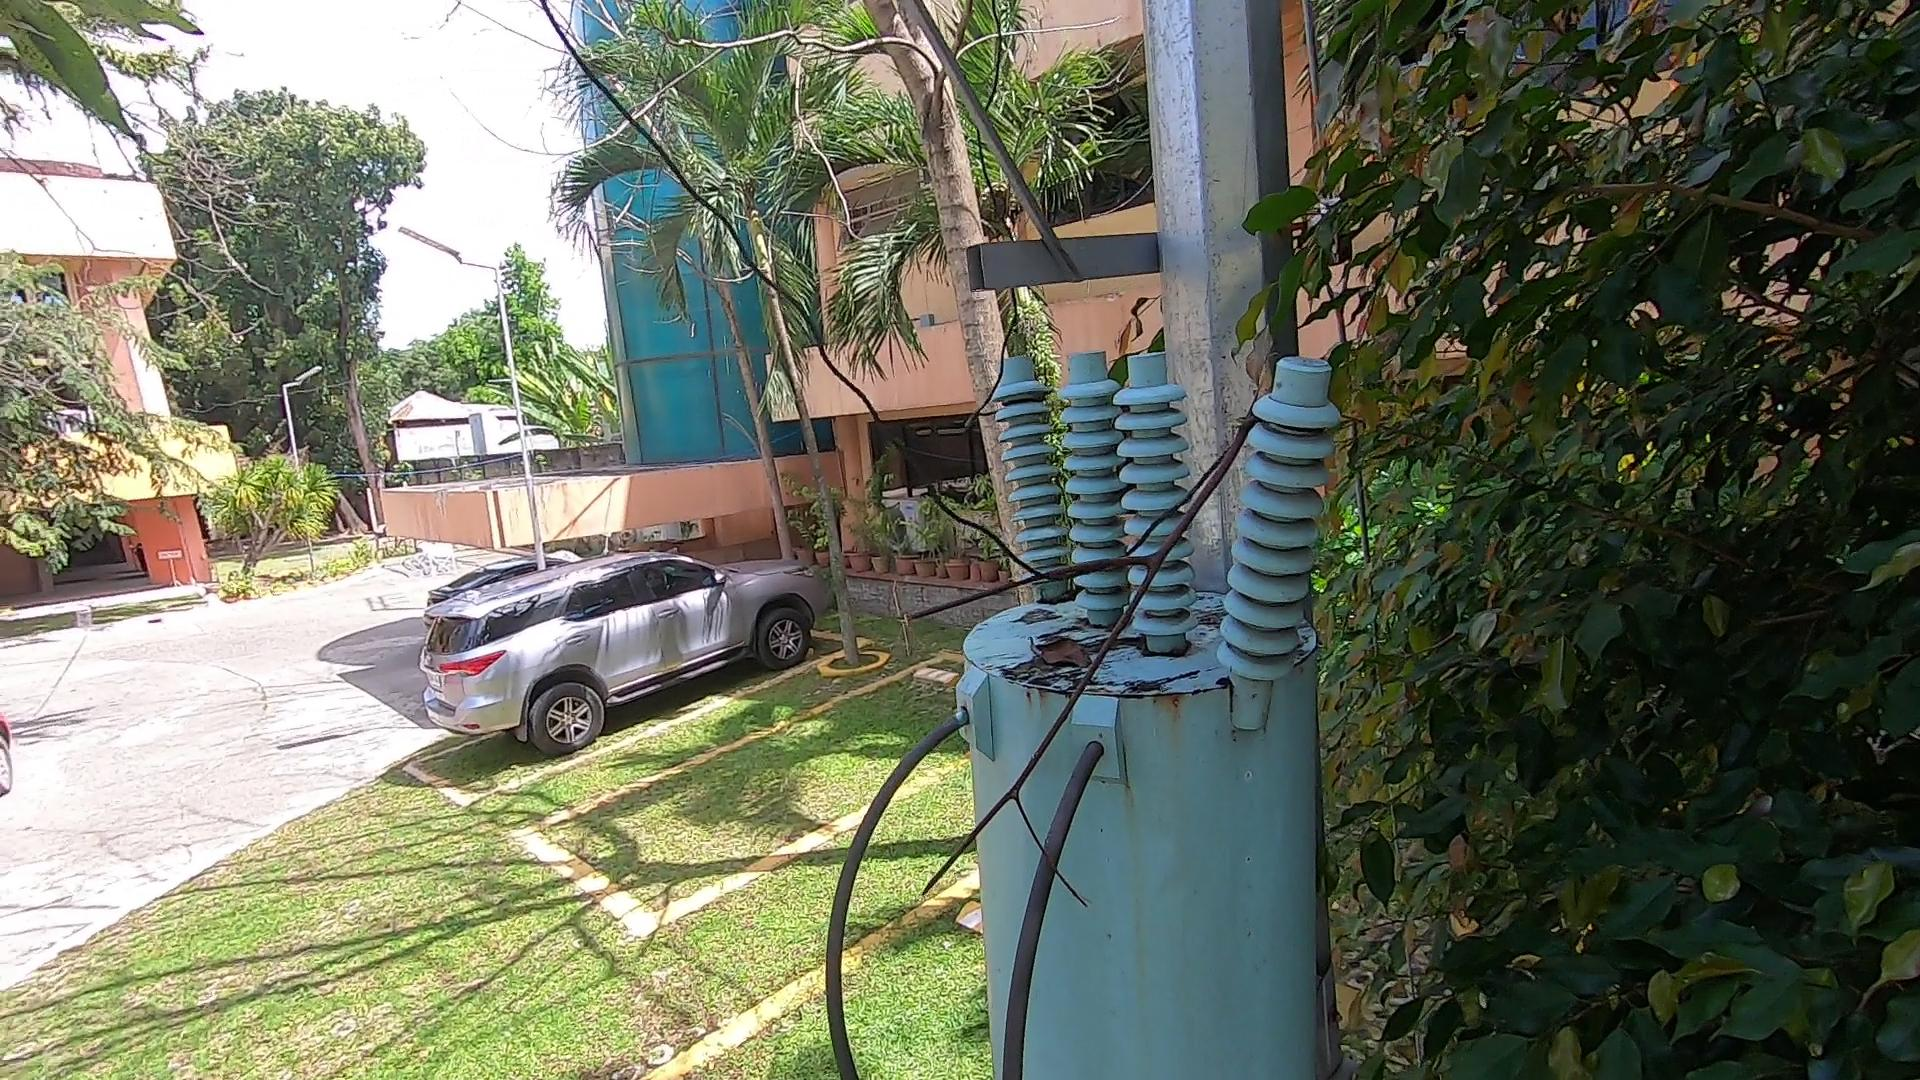leaf: (1021, 632, 1095, 678)
tree branch: (885, 386, 1274, 907)
